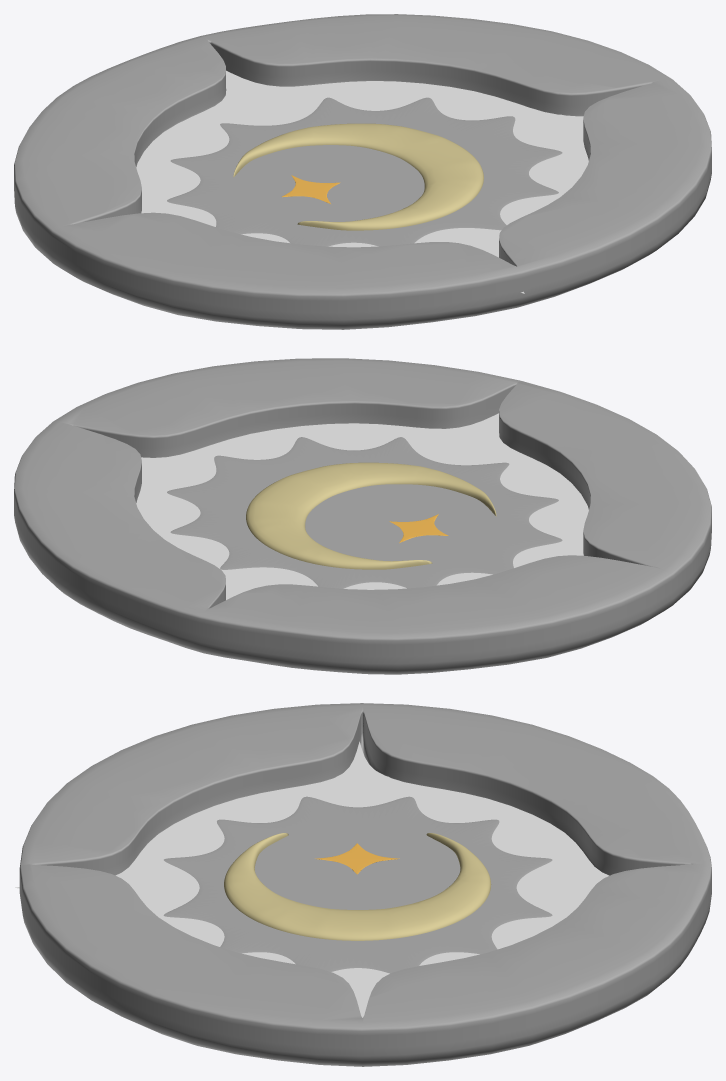
File: CENARIO 1 FINAL.fbx
The picture shows the model from 3 angles, top to bottom: view 1: azimuth 30°, elevation 25°; view 2: azimuth 150°, elevation 25°; view 3: azimuth 270°, elevation 25°; orthographic projection. The views are drawn at different scales.
Visible parts, largest first — view 1: BASE.001, ESTRELA.001, Circle.002, LUA.001, ESTRELA MEN0R.001; view 2: BASE.001, ESTRELA.001, Circle.002, LUA.001, ESTRELA MEN0R.001; view 3: BASE.001, ESTRELA.001, Circle.002, LUA.001, ESTRELA MEN0R.001.
Boxes of the visible parts, x1,y1,x2,y2 form: BASE.001: (14, 14, 711, 329); ESTRELA.001: (167, 97, 562, 246); Circle.002: (136, 70, 588, 293); LUA.001: (233, 123, 483, 230); ESTRELA MEN0R.001: (282, 175, 340, 203); BASE.001: (14, 358, 711, 674); ESTRELA.001: (167, 437, 562, 588); Circle.002: (136, 413, 588, 599); LUA.001: (246, 462, 496, 569); ESTRELA MEN0R.001: (389, 514, 448, 542); BASE.001: (19, 703, 711, 1066); ESTRELA.001: (163, 796, 552, 973); Circle.002: (15, 741, 609, 1017); LUA.001: (224, 833, 491, 940); ESTRELA MEN0R.001: (315, 843, 399, 874).
Size of the model in its own units: 392 by 34.67 by 355.
